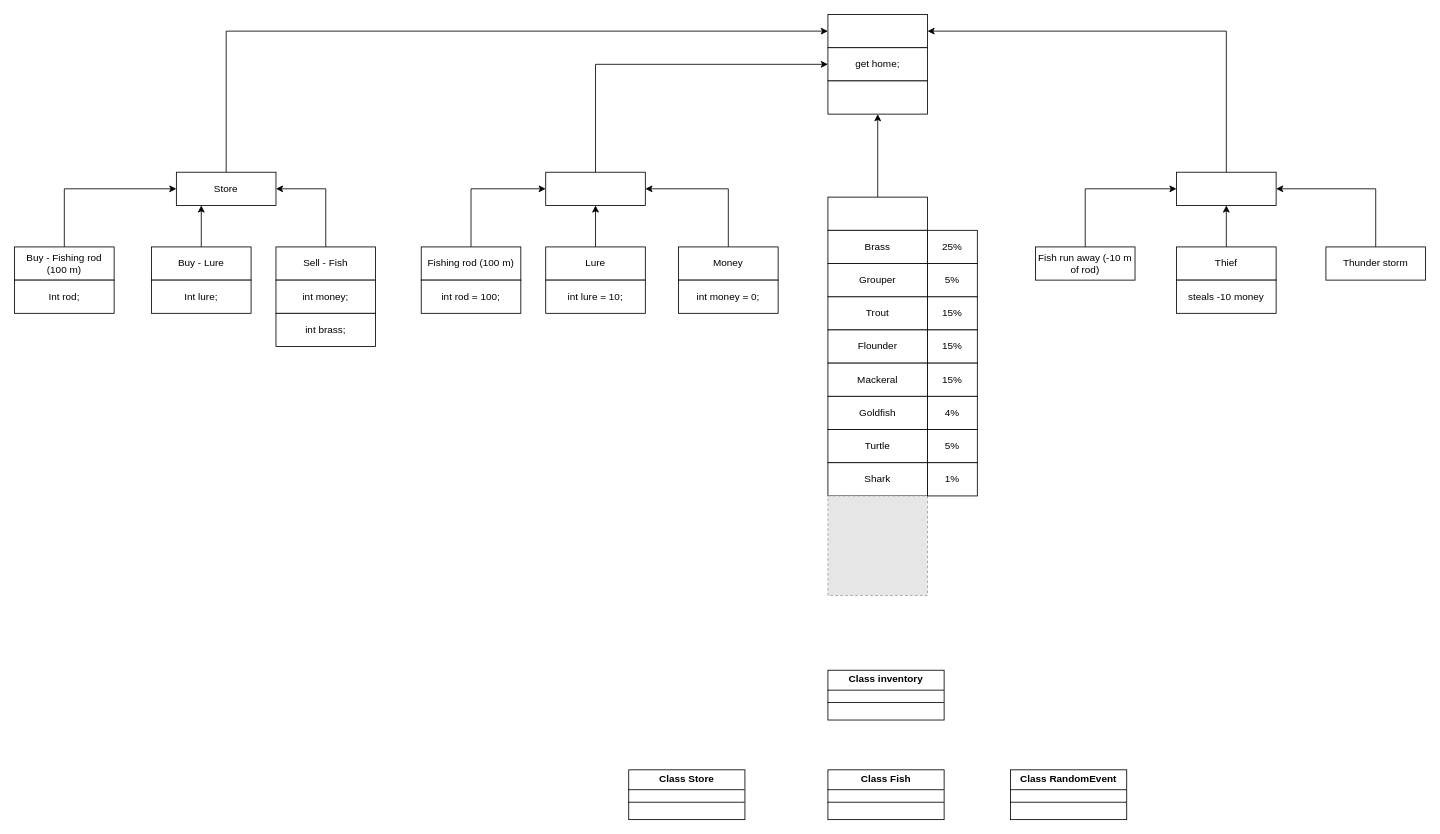
The diagram is 1440 pixels wide and 834 high, and some of its shapes have lost their labels. Grey dashed boxes stand in for pictures. The box of each missing label's shape, as (x1, y1, x2, y2) in pixels:
Fish: (827, 196, 928, 230)
Fishing simulator: (827, 14, 928, 48)
Inventory: (545, 171, 645, 205)
Random event: (1176, 171, 1276, 205)
